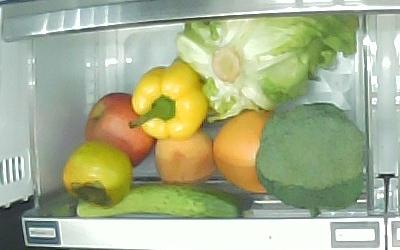apple: (84, 93, 157, 167)
broccoli: (256, 103, 364, 217)
cucumber: (76, 183, 241, 218)
grapefruit: (213, 110, 269, 192)
lettuce: (176, 15, 359, 112)
paprika: (128, 63, 207, 141)
peach: (156, 129, 217, 184)
persimmon: (64, 142, 133, 208)
